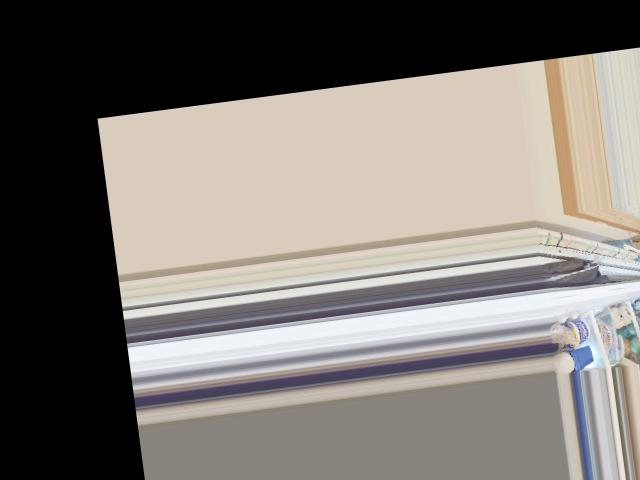cotage: (635, 232, 640, 291)
